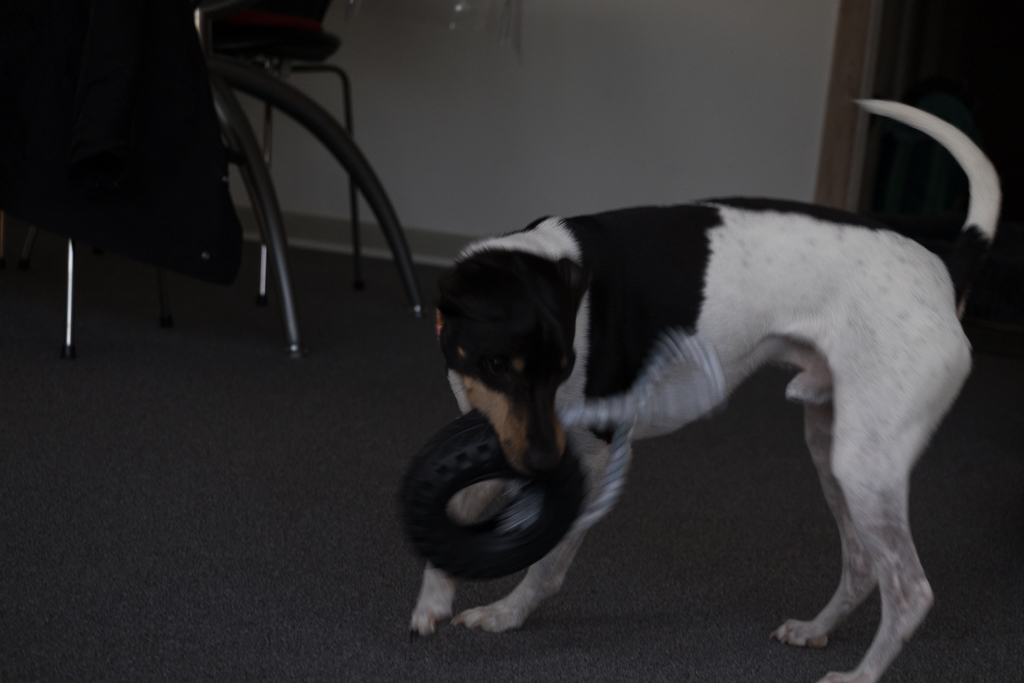Dog: (390, 90, 1007, 683)
